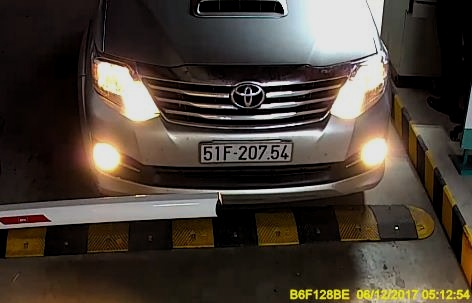plate: (199, 138, 294, 166)
